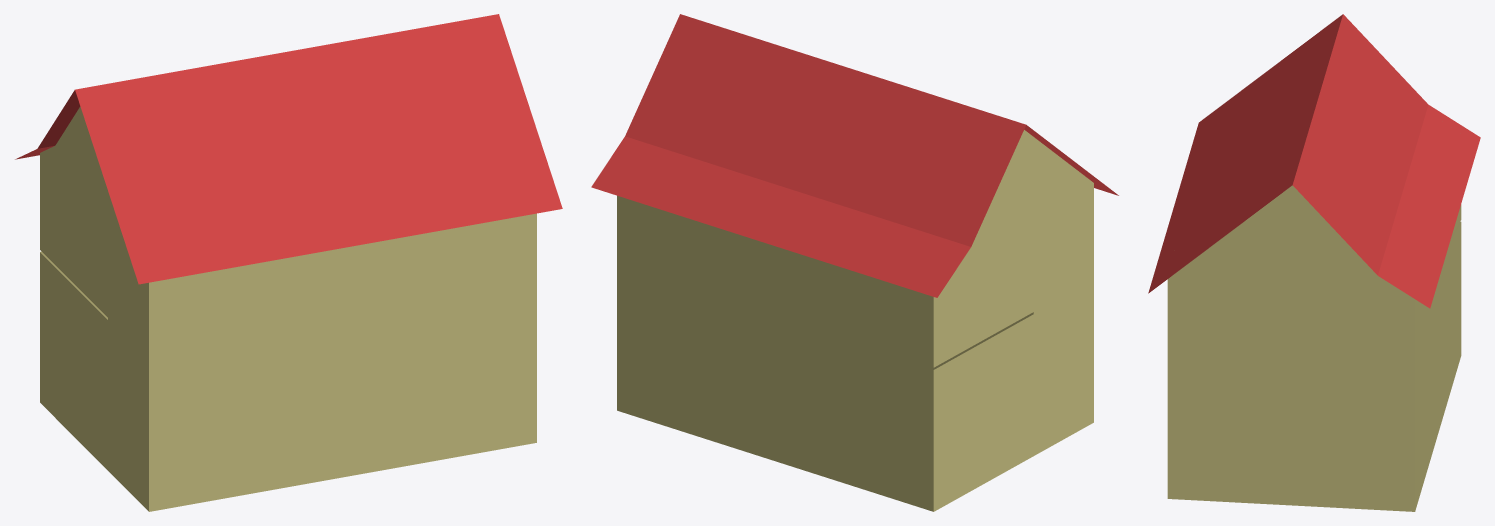
The picture shows the model from 3 angles, left to right: view 1: azimuth 30°, elevation 25°; view 2: azimuth 150°, elevation 25°; view 3: azimuth 270°, elevation 25°; orthographic projection. The views are drawn at different scales.
Size of the model in its own units: 18.99 by 14.34 by 15.59.
